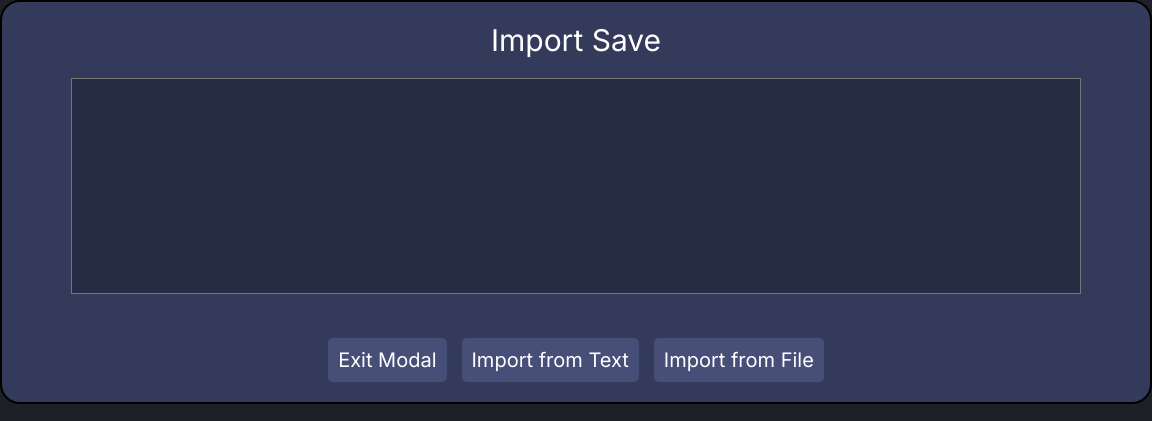
Test: ImportSaveModal › ImportFromText button › Error parsing data
Type "[ [ [ [ [ [" into the text box with test id "import-save-textarea" at (576, 186), box [71,78,1081,294]
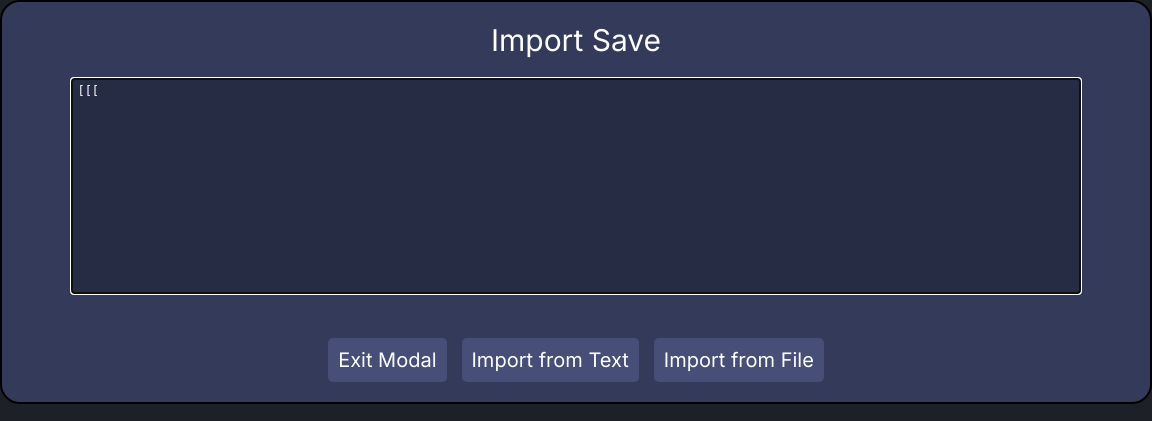
Click the button with test id "import-from-text-button" at (550, 360), box [462,338,639,382]
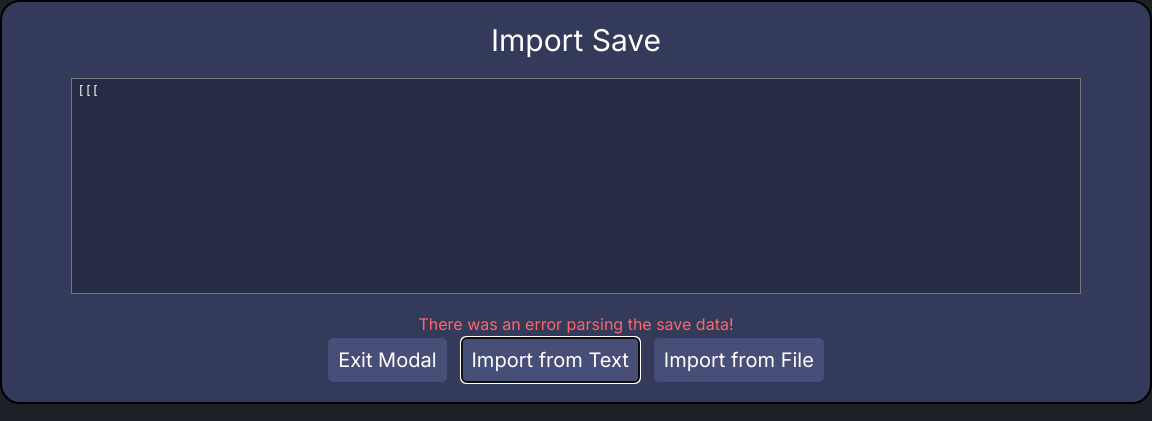
Expected: the text with test id "parse-error-text" reads "There was an error parsing the save data!", [418,314,734,334]
